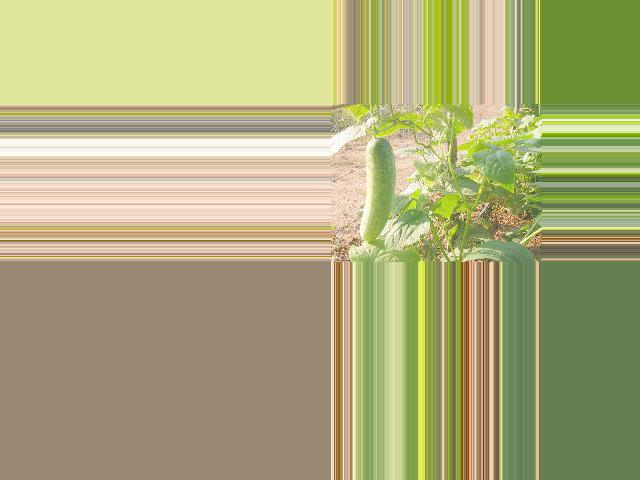cucumber: (359, 138, 395, 241)
